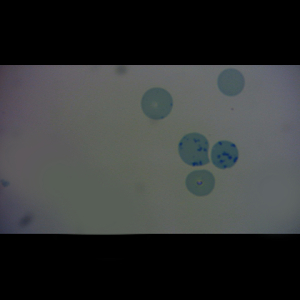aggregate reticulocyte: (177, 131, 212, 167), (210, 139, 240, 169)
erythrocyte: (216, 67, 246, 98), (185, 169, 216, 197)
punctate reticulocyte: (140, 87, 174, 121)
